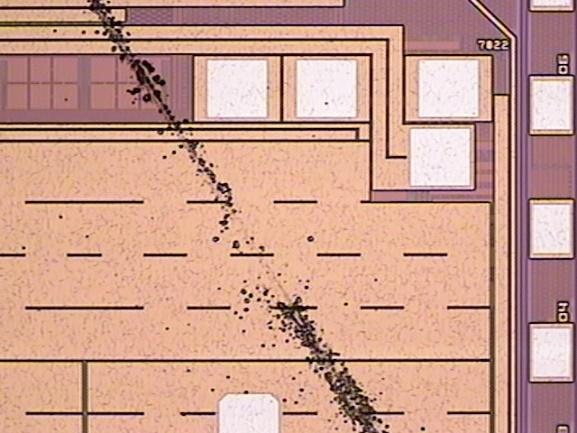SCRATCH: (72, 1, 401, 433)
